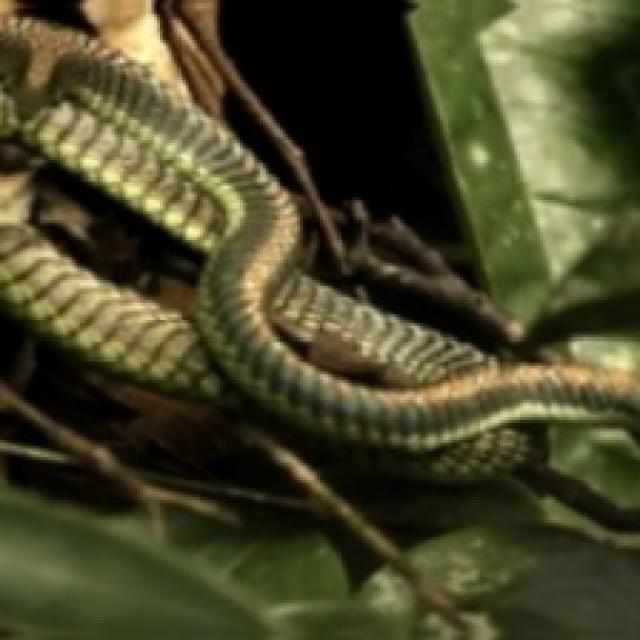paradise tree snake: (0, 0, 637, 543), (0, 383, 166, 500)
